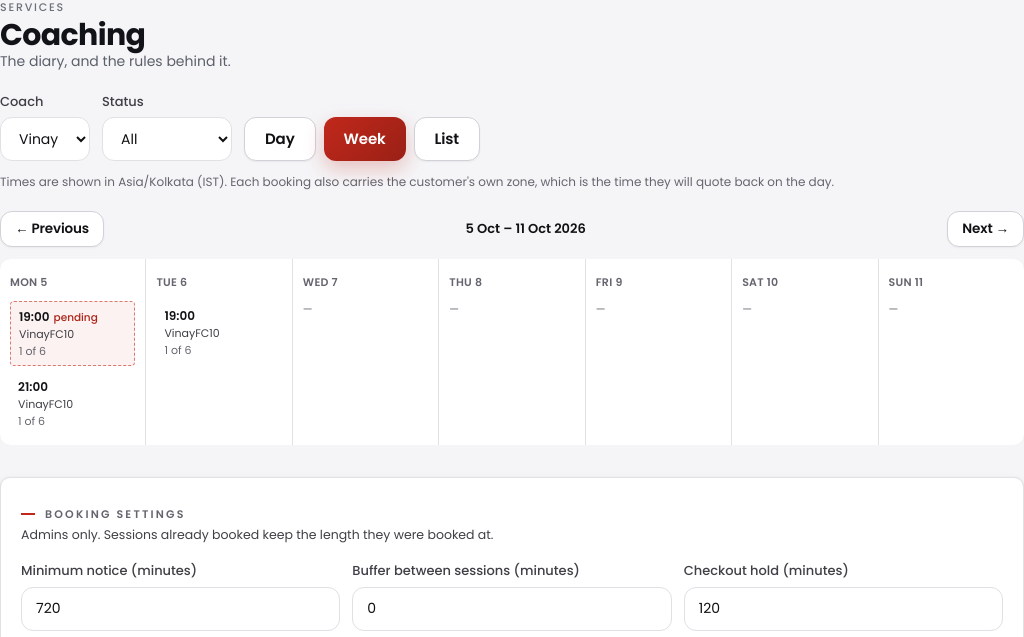
Test: Coaching diary › shows each booking with everything the coach needs, in IST and the customer's time
Step 1. Click the button "List" → (447, 139), box x1=414 y1=117 x2=480 y2=161
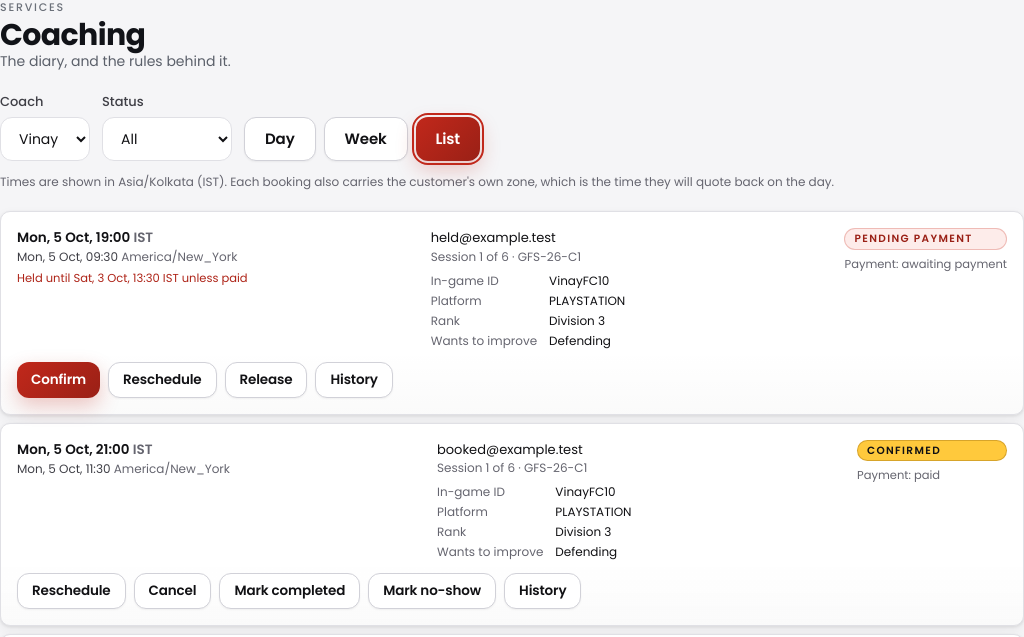
Result: the element with test id "session-held" shows "held@example.test" at x1=431 y1=228 x2=556 y2=247
Result: the element with test id "session-held" shows "GFS-26-C1" at x1=518 y1=248 x2=581 y2=265
Result: the element with test id "session-held" shows "VinayFC10" at x1=549 y1=272 x2=609 y2=289
